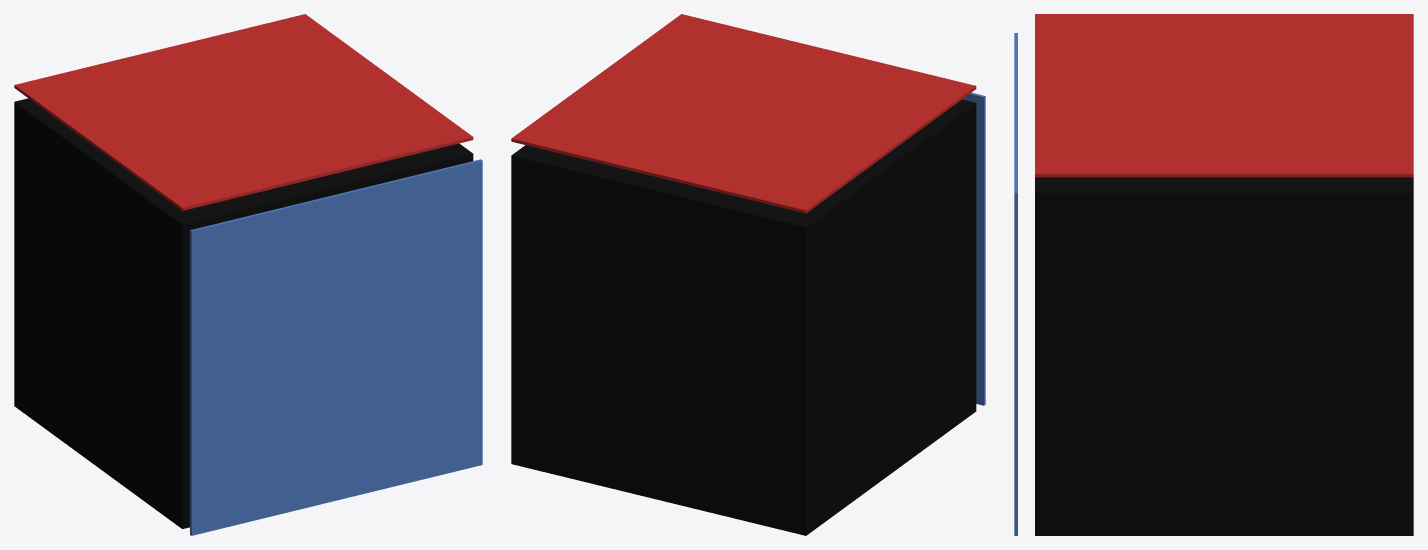
3 views of the same model, side by side, from view 1: azimuth 30°, elevation 25°; view 2: azimuth 150°, elevation 25°; view 3: azimuth 270°, elevation 25° (orthographic). The views are drawn at different scales.
Parts seen in each view (by area): view 1: blue-3, Cube, red-3; view 2: Cube, red-3, blue-3; view 3: Cube, red-3, blue-3.
Part boxes in pixels (left/top/right/bottom): blue-3: left=190, top=159, right=482, bottom=535; Cube: left=14, top=98, right=473, bottom=528; red-3: left=14, top=14, right=473, bottom=210; Cube: left=511, top=99, right=976, bottom=535; red-3: left=511, top=14, right=976, bottom=213; blue-3: left=962, top=92, right=985, bottom=405; Cube: left=1035, top=177, right=1413, bottom=535; red-3: left=1035, top=14, right=1413, bottom=177; blue-3: left=1014, top=33, right=1017, bottom=535.
Size of the model in its own units: 2 by 2.11 by 2.11.
